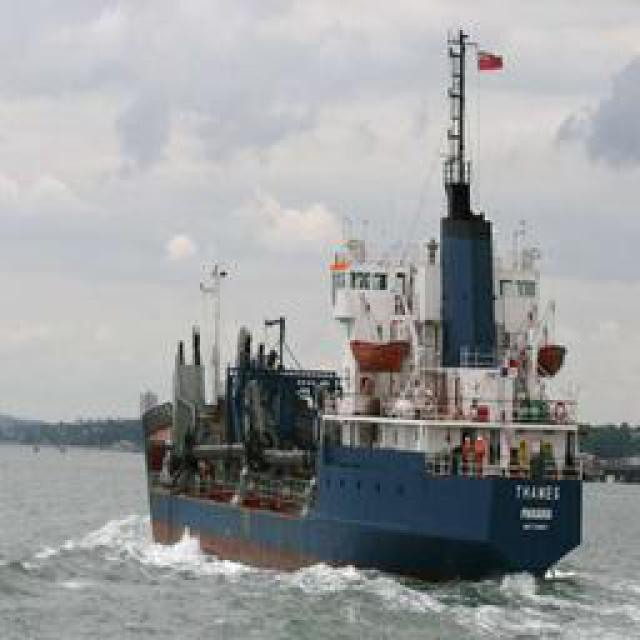Ship: (144, 109, 594, 579)
